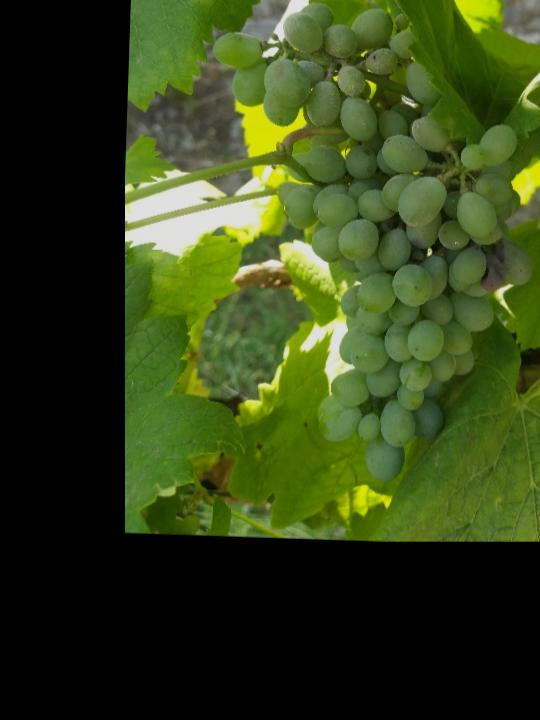grape: (194, 0, 540, 499)
